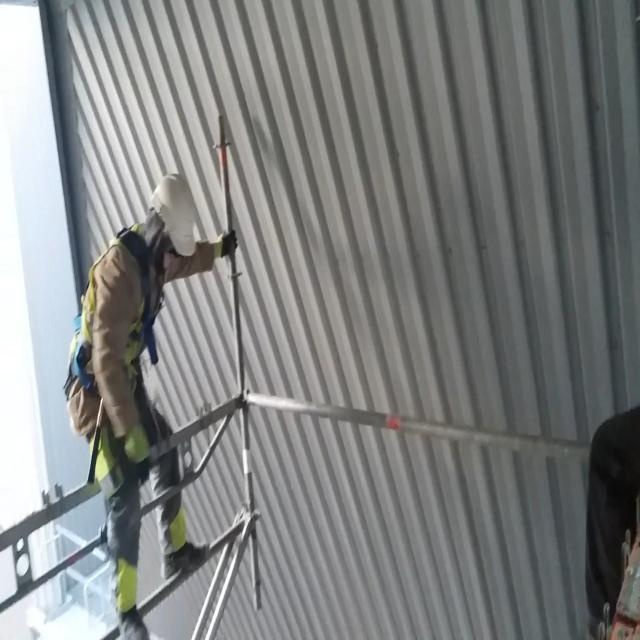Arnes_seguridad: (68, 212, 167, 439)
